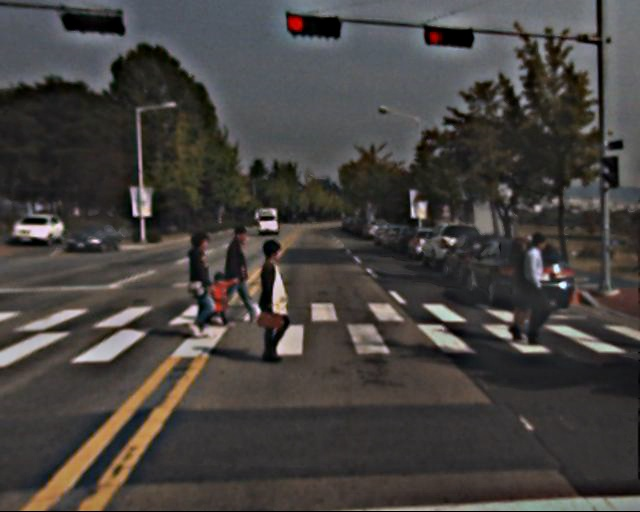person: (246, 240, 297, 365), (515, 232, 561, 345), (177, 233, 221, 340), (503, 238, 545, 340), (220, 227, 259, 323)
